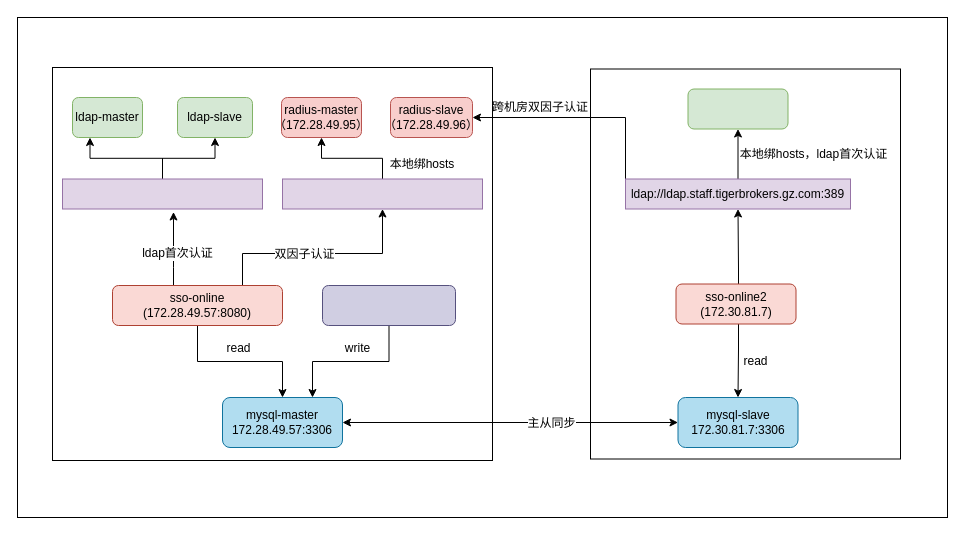
Some shapes in this 965 by 535 pixel diagram are drawn without their labels. Each missing label, with the centre of its shape:
"ldap-gz (121.46.18.77)" goes at (x=737, y=108).
"ldap://ldap.staff.tigerbrokers.com:389" goes at (x=162, y=193).
"radius.tigerbrokers.com" goes at (x=382, y=193).
"sso-management (172.28.49.57)" goes at (x=389, y=305).
